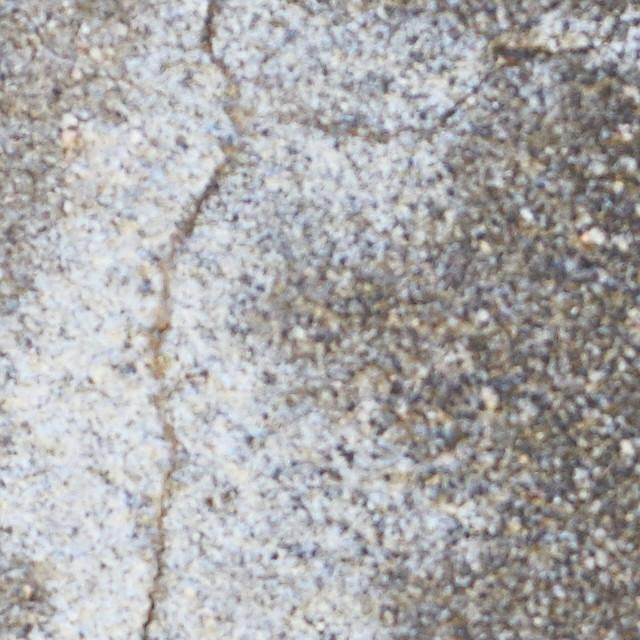vertical cracks: (140, 0, 245, 640)
